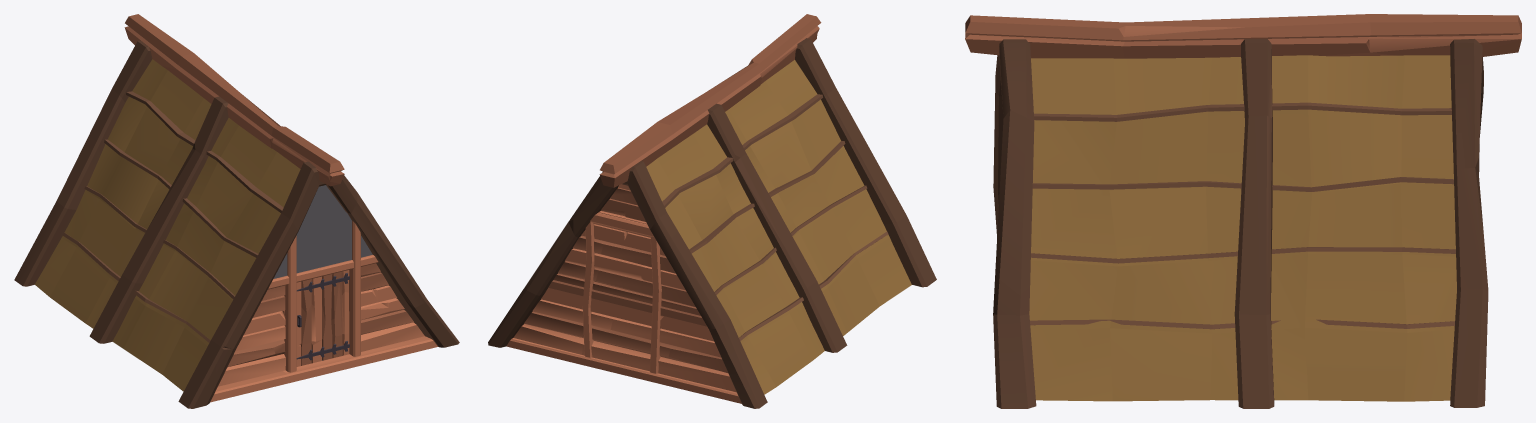
The model's file is Building_2_Wall_Off_1.fbx.
The picture shows the model from 3 angles, left to right: view 1: azimuth 30°, elevation 25°; view 2: azimuth 150°, elevation 25°; view 3: azimuth 270°, elevation 25°; orthographic projection. The views are drawn at different scales.
Parts seen in each view (by area): view 1: Building_2_Wall_Off_1; view 2: Building_2_Wall_Off_1; view 3: Building_2_Wall_Off_1.
Part boxes in pixels (x1,y1,x2,y2): Building_2_Wall_Off_1: (14,14,459,408); Building_2_Wall_Off_1: (488,14,936,408); Building_2_Wall_Off_1: (965,14,1521,408).
Bounding box in the file's own units: 6.63 × 5.16 × 8.66.
